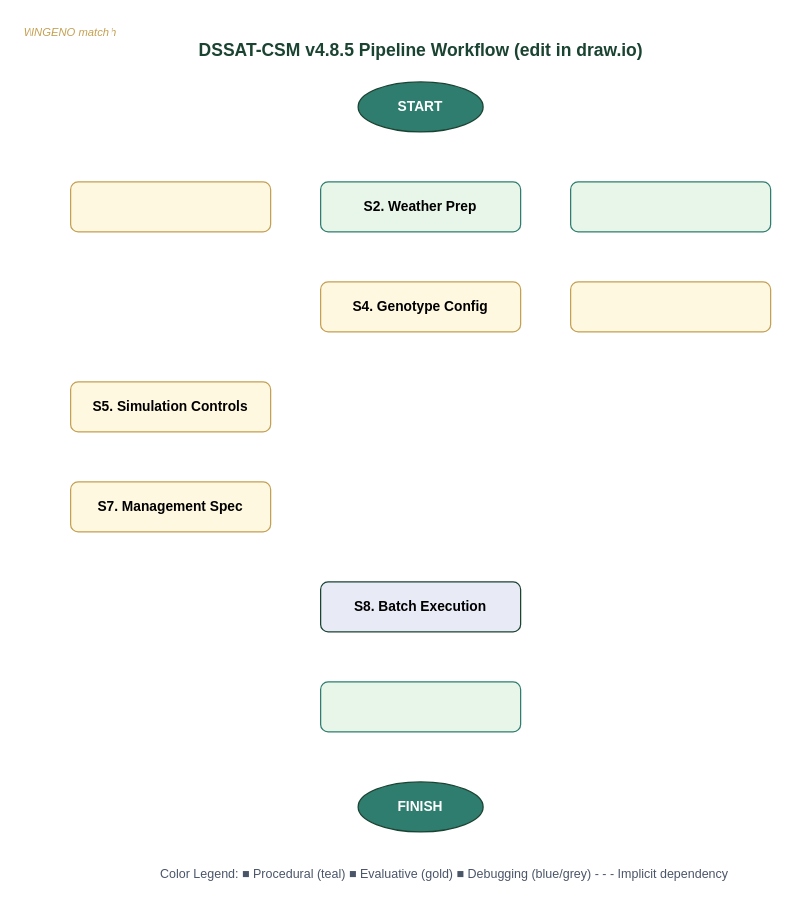
Some shapes in this 793 by 909 pixel diagram are drawn without their labels. The box of each missing label's shape, as (x1, y1, x2, y2) in pixels:
S1. Experiment Design: (69, 181, 271, 232)
S3. Soil Setup: (569, 181, 771, 232)
S6. Initial Conditions: (569, 281, 771, 332)
S9. Output Parsing: (319, 681, 521, 732)
